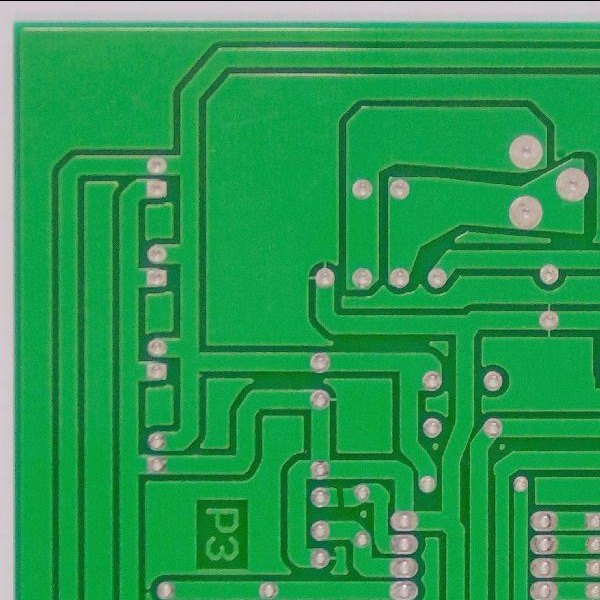open_circuit: (331, 484, 348, 511)
